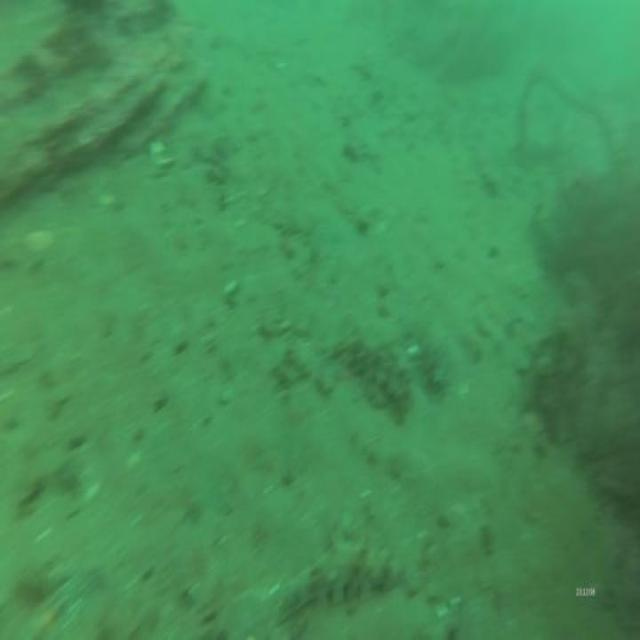holothurian: (267, 524, 409, 620)
